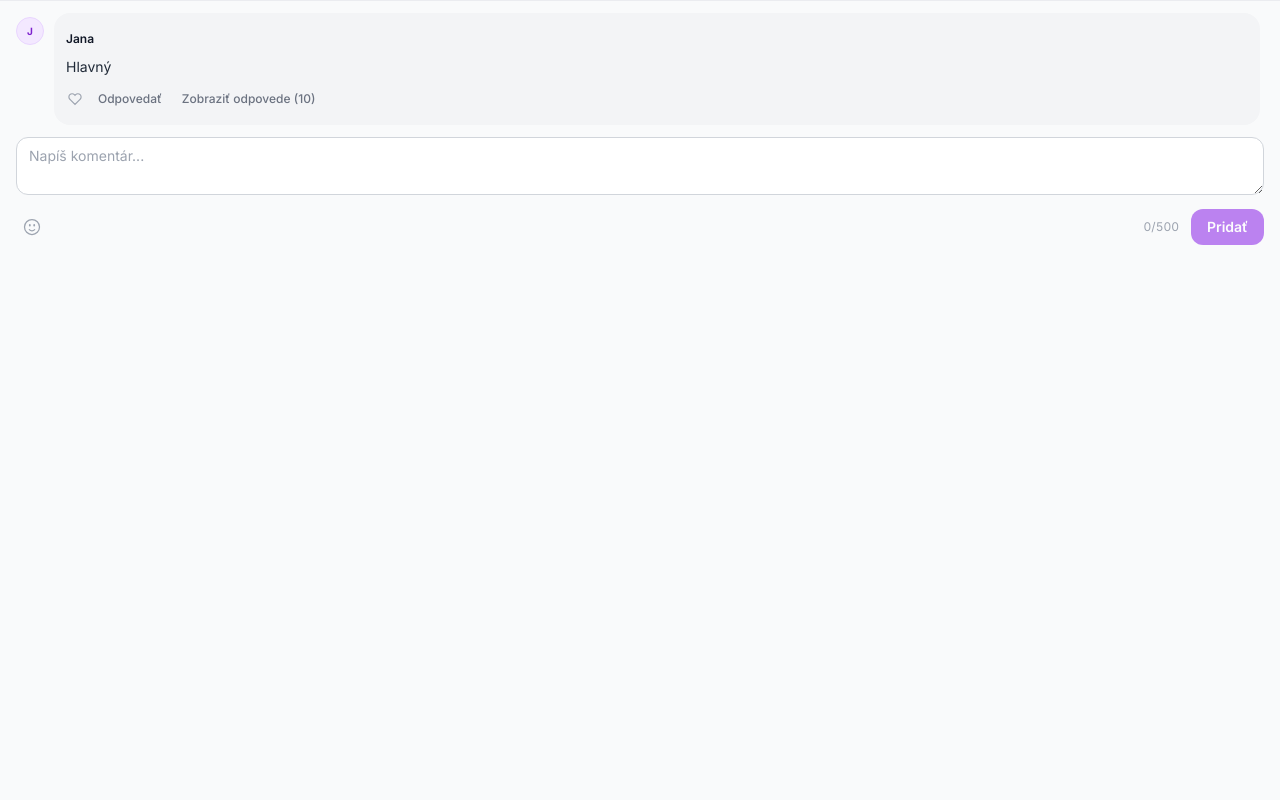
Test: zbalené odpovede › expands from the data it already has, without a request
Expected: the text "Hlavný" is shown, [66, 58, 111, 75]
Click the button with test id "feed-comment-toggle-replies-1". click: [249, 99]
box: [176, 81, 321, 117]
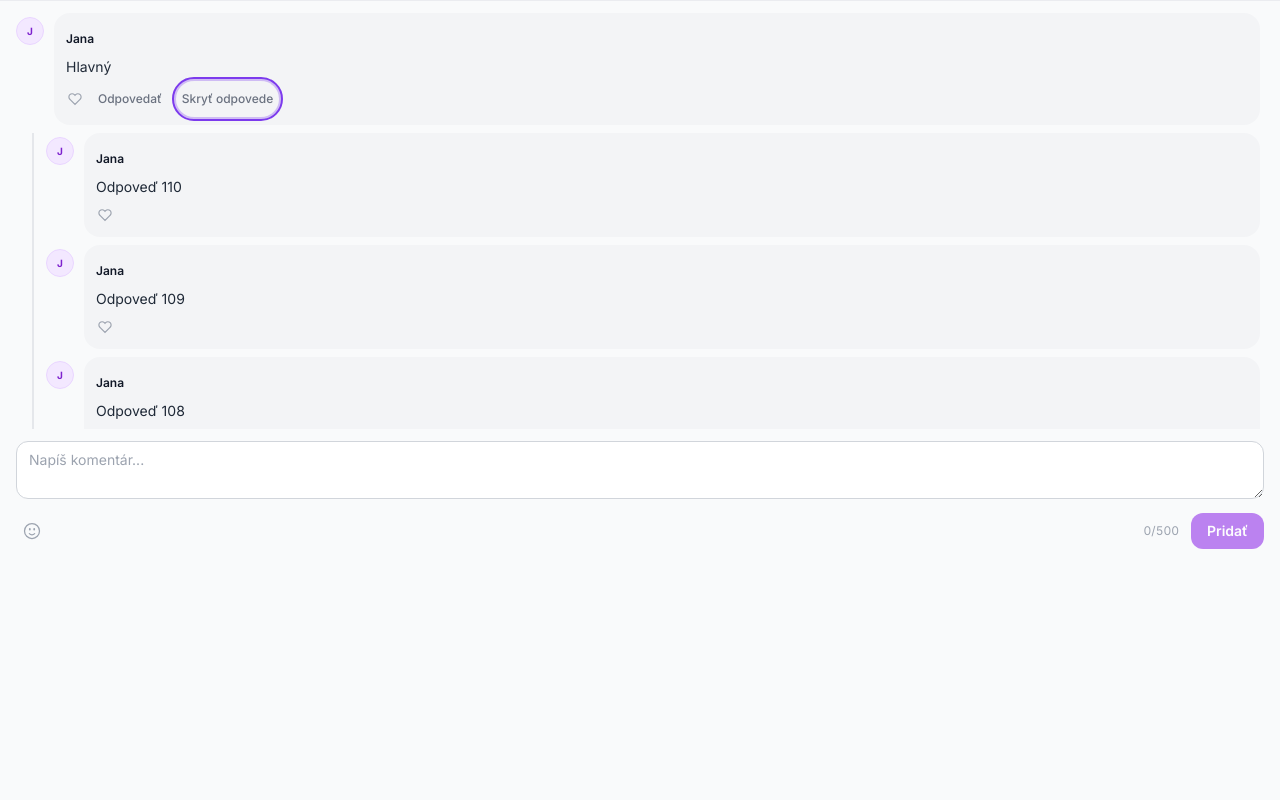
Now the text "Odpoveď 110" is shown 10 times
